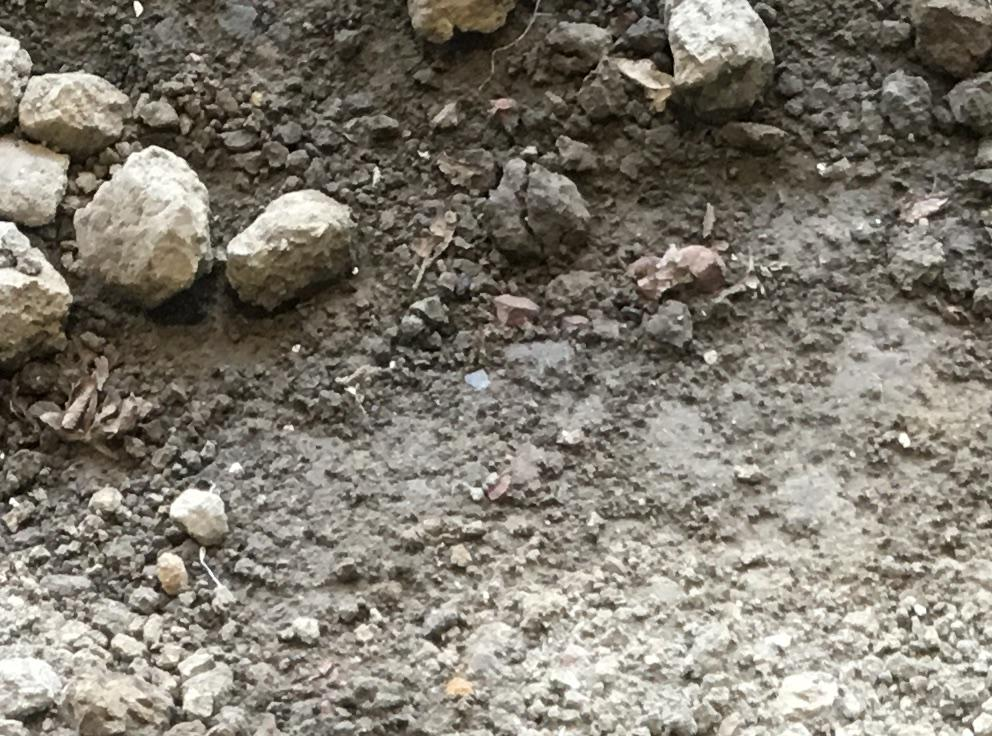block: (73, 147, 209, 297), (224, 183, 357, 305), (662, 1, 774, 122), (1, 226, 63, 365), (18, 69, 121, 150)
